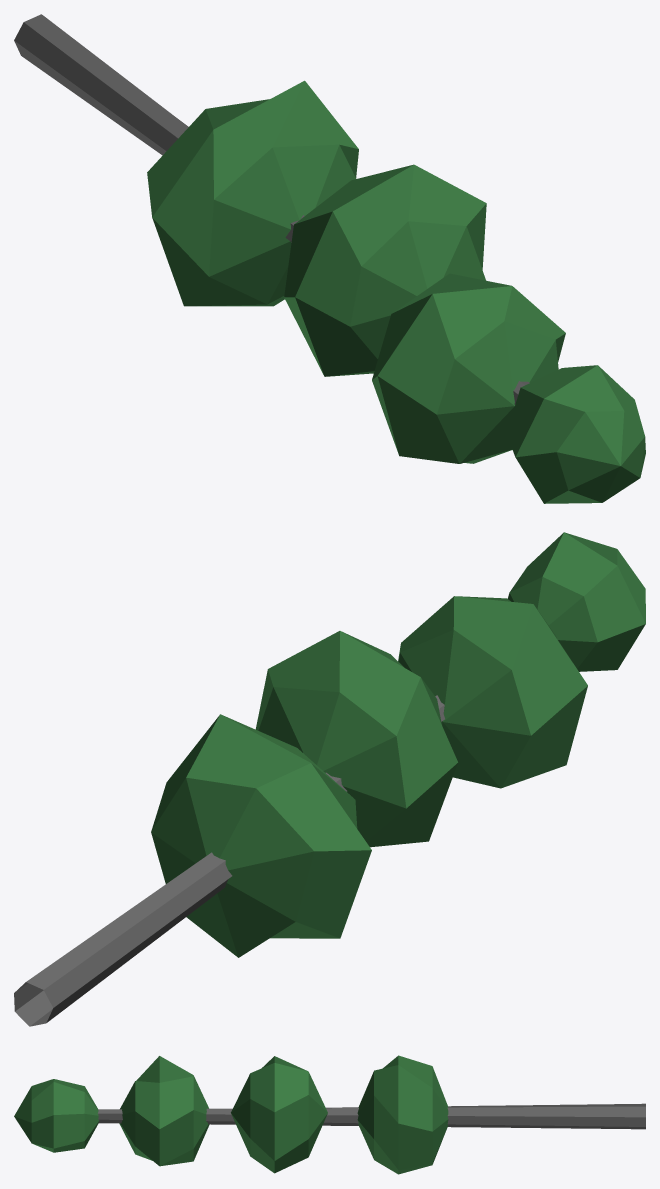
Rendered from growth_2.glb.
3 renders of one model, top to bottom at view 1: azimuth 30°, elevation 25°; view 2: azimuth 150°, elevation 25°; view 3: azimuth 270°, elevation 25°, orthographic. The views are drawn at different scales.
Visible parts, largest first — view 1: tree_06_growth_2; view 2: tree_06_growth_2; view 3: tree_06_growth_2.
Boxes of the visible parts, x1=… form: tree_06_growth_2: x1=14, y1=14, x2=645, y2=503; tree_06_growth_2: x1=14, y1=532, x2=645, y2=1026; tree_06_growth_2: x1=14, y1=1055, x2=645, y2=1174.
Bounding box in the file's own units: 9.98 × 9.52 × 46.08.
